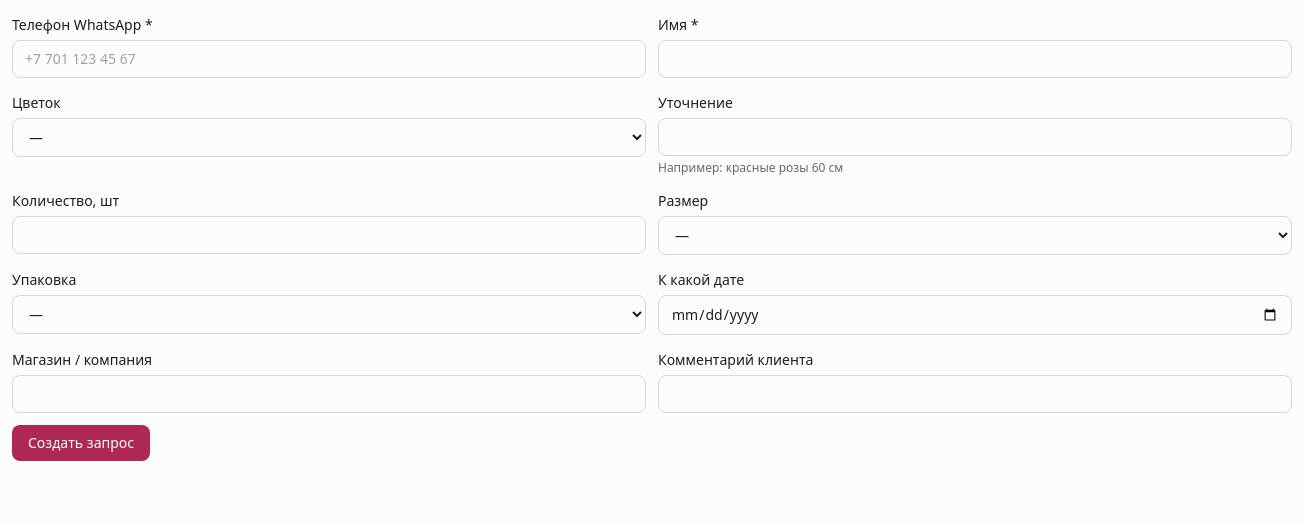
Test: F2: қате болғанда формадағы мәндер сақталады › Монобукет (жаңа сұраныс): қатеден кейін мәндер орнында
Type "+77010000001" into the field labelled "Телефон WhatsApp *" at (329, 59), box [12,40,646,78]
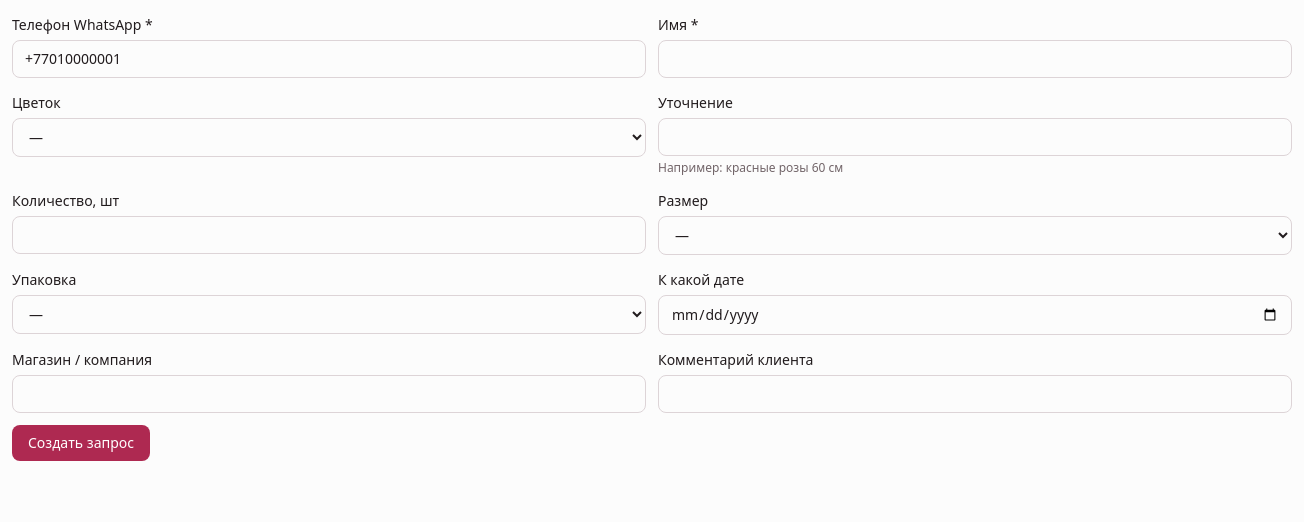
Type "Дана" into the field labelled "Имя *" at (975, 59), box [658,40,1292,78]
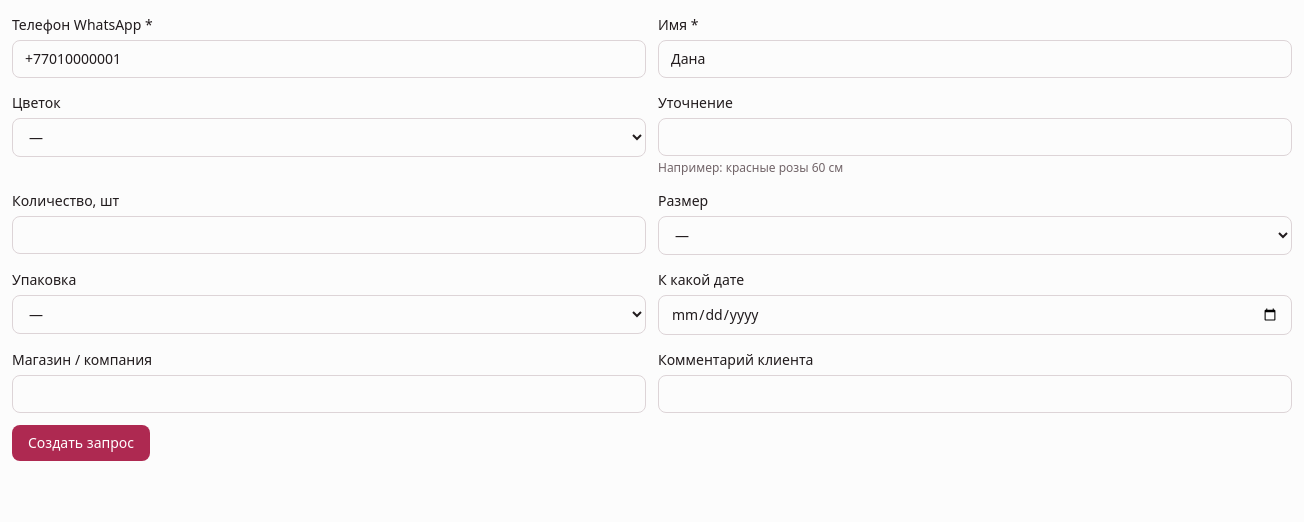
Type "51" into the number field labelled "Количество, шт" at (329, 235), box [12,216,646,254]
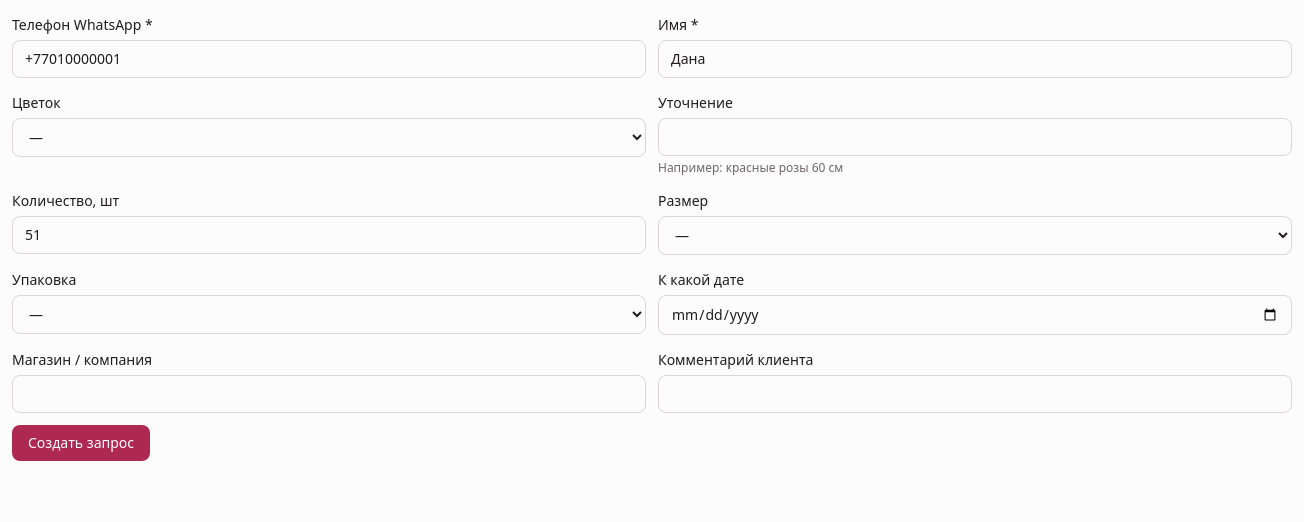
Select "L" in the dropdown labelled "Размер" at (975, 236), box [658,216,1292,255]
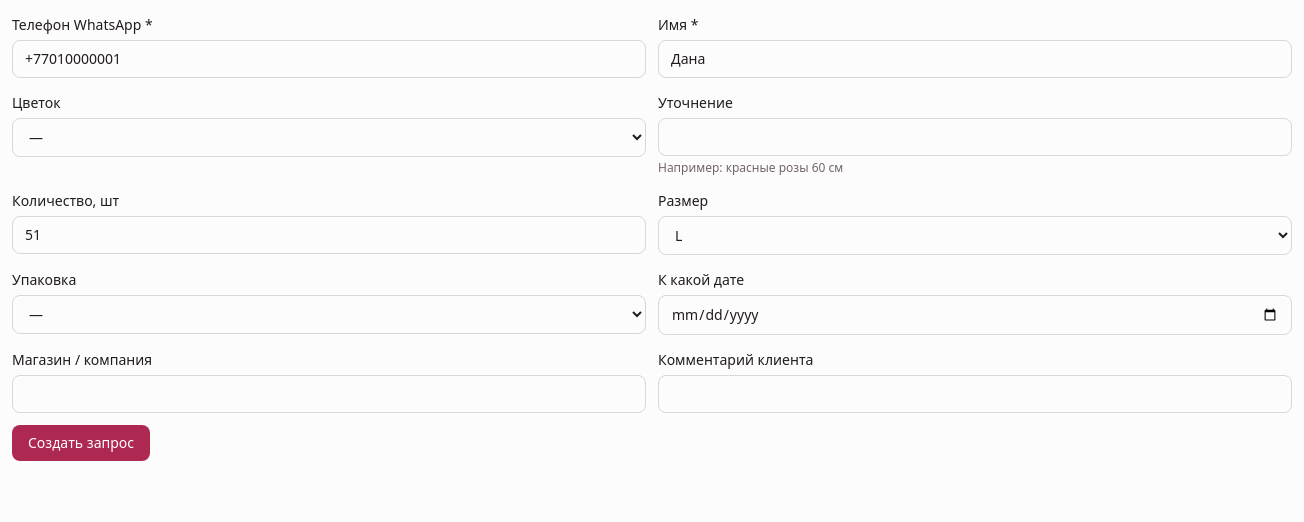
Type "Ақ раушан керек" into the field labelled "Комментарий клиента" at (975, 394), box [658,375,1292,413]
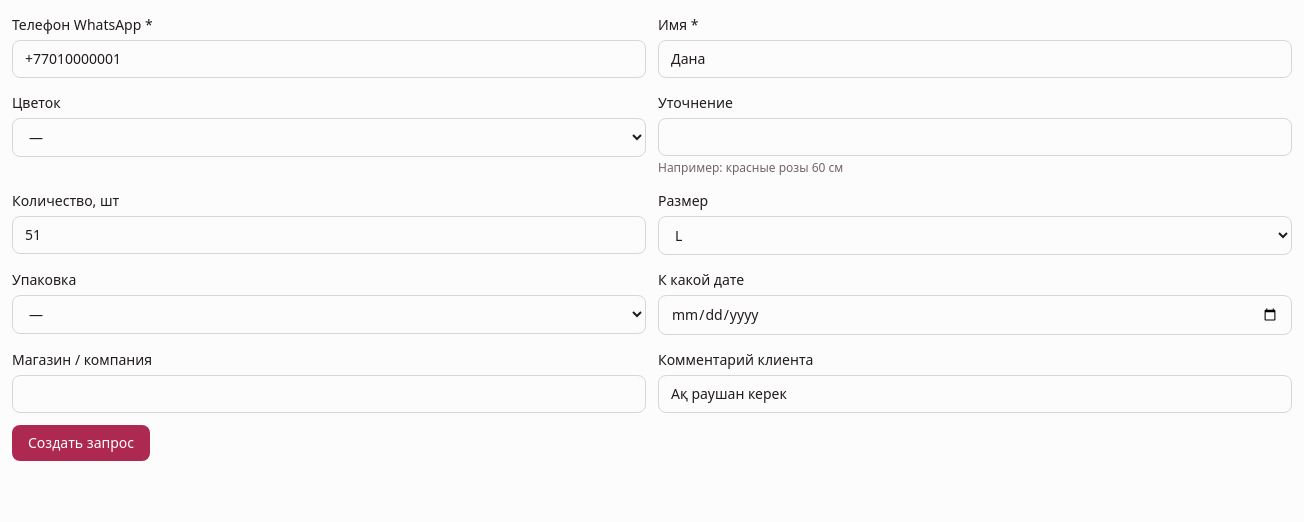
Submit the form
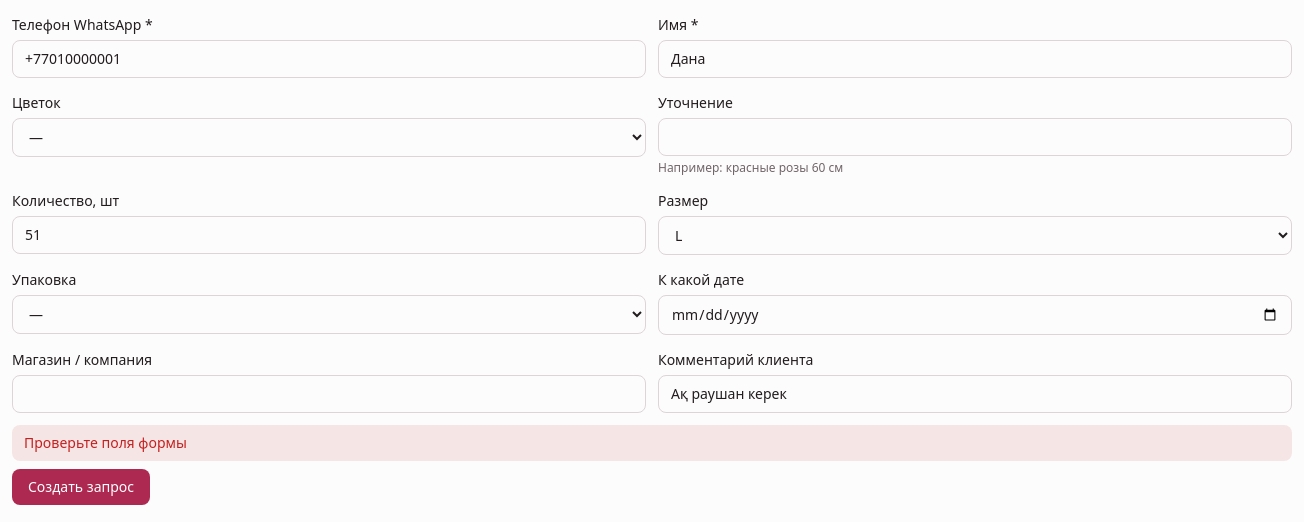
Check: the text "Проверьте поля формы" is shown, box [12,425,1292,461]
